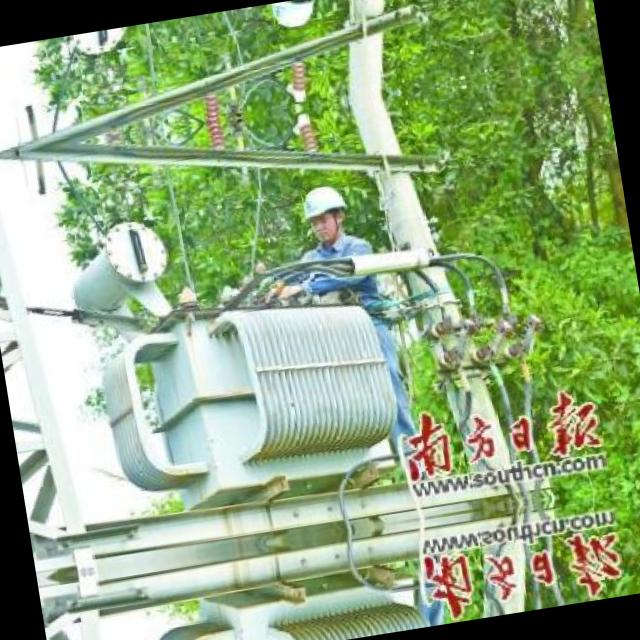helmet: (296, 177, 354, 247), (267, 0, 322, 35)
